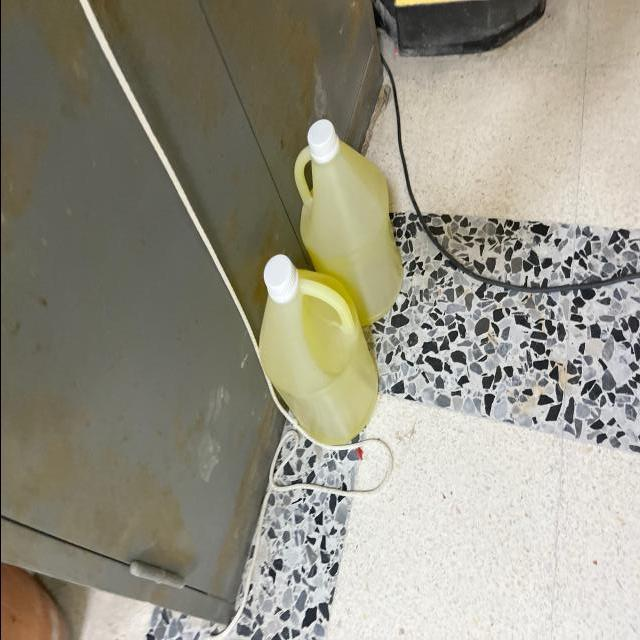HDPE Plastic: (281, 110, 410, 330), (244, 249, 384, 451)
